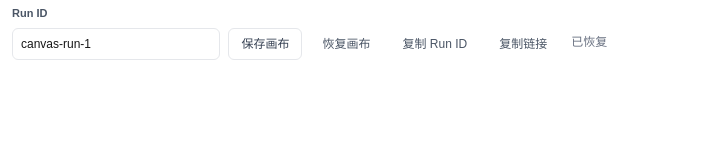
it: ProductionCanvasRunControls › uses one live status when run and copy status are both visible
The image size is (711, 160).
Click the button "复制 Run ID": coordinates (435, 44) [390,28,479,60]
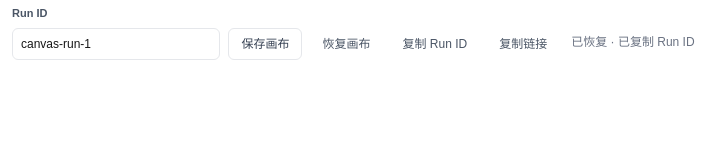
expect the message reads "已恢复 · 已复制 Run ID": met, box [571,35,695,49]
